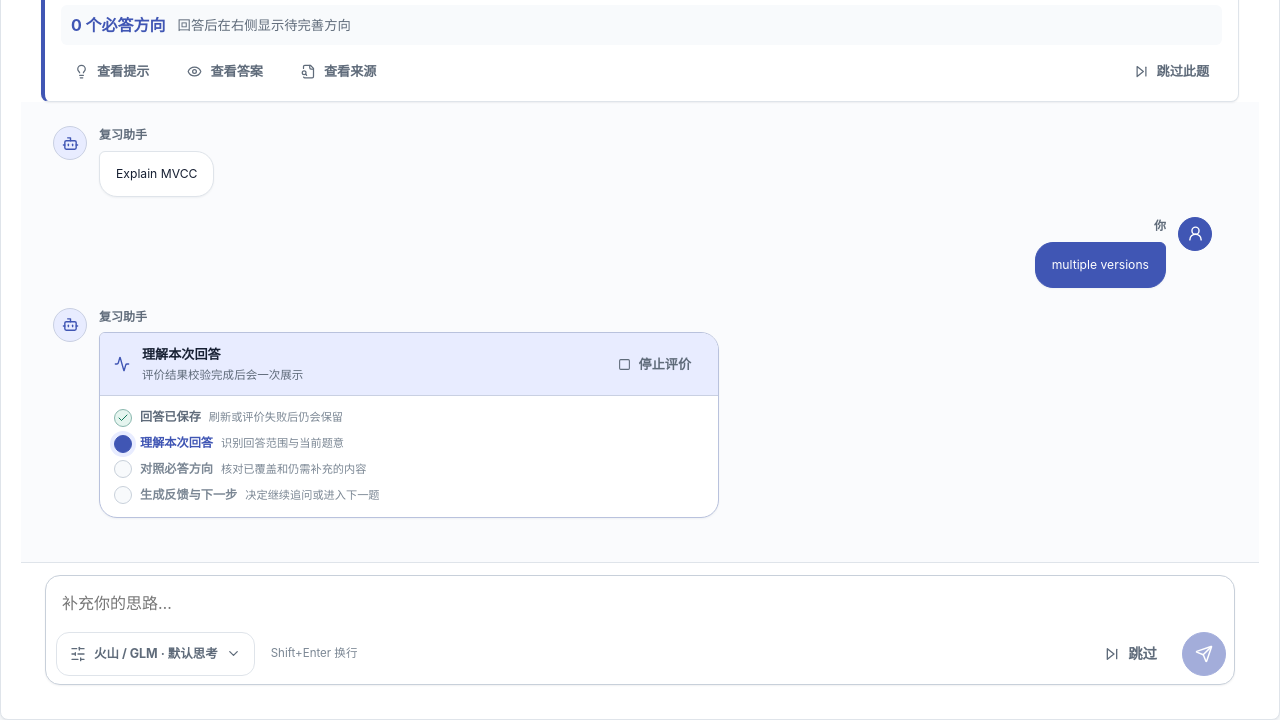
Scenario: ReviewConversation › keeps the answer composer after the scrollable conversation
(page scrolled)
Expected: the button named "发送" is disabled, 1182,632 -> 1226,676
Expected: the text "火山 / GLM · 默认思考" is shown, 94,644 -> 218,663
Click the heading "火山 / GLM · 默认思考".
click(155, 654)  # box 56,632 -> 255,676
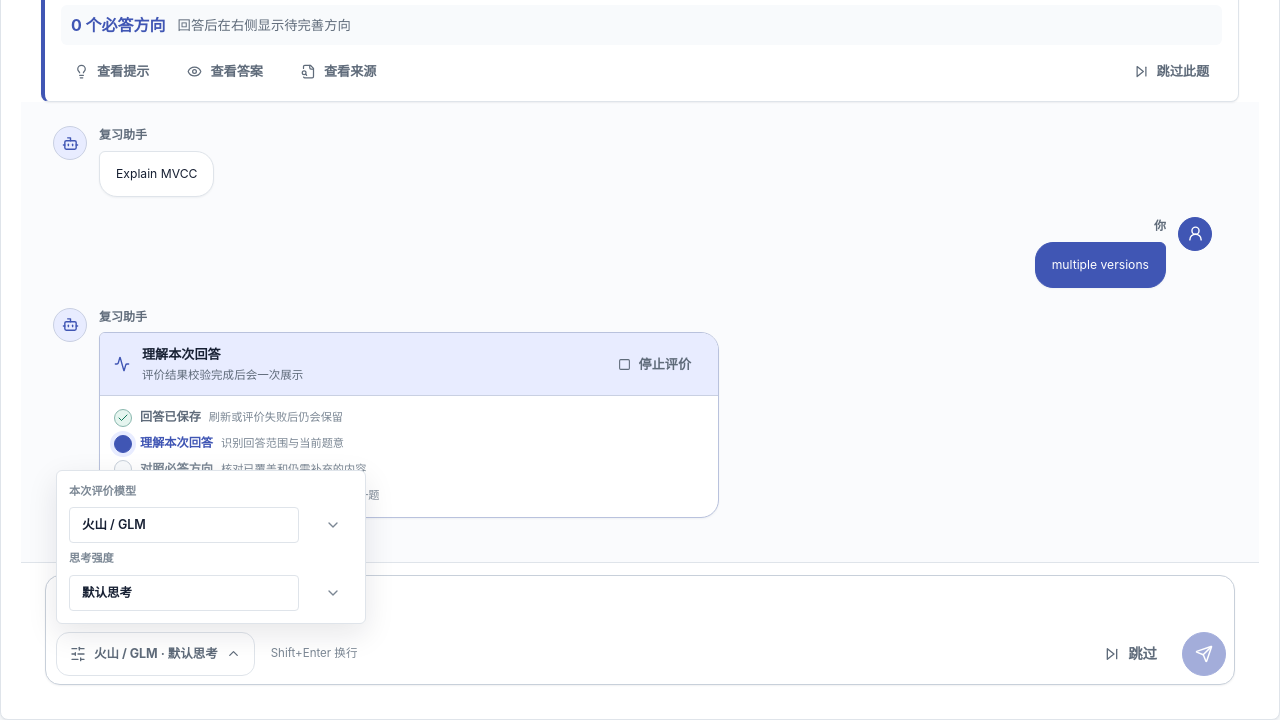
Expected: the button "跳过" is shown, 1087,632 -> 1174,675
Expected: the dropdown labelled "评价模型" is shown, 69,507 -> 299,543
